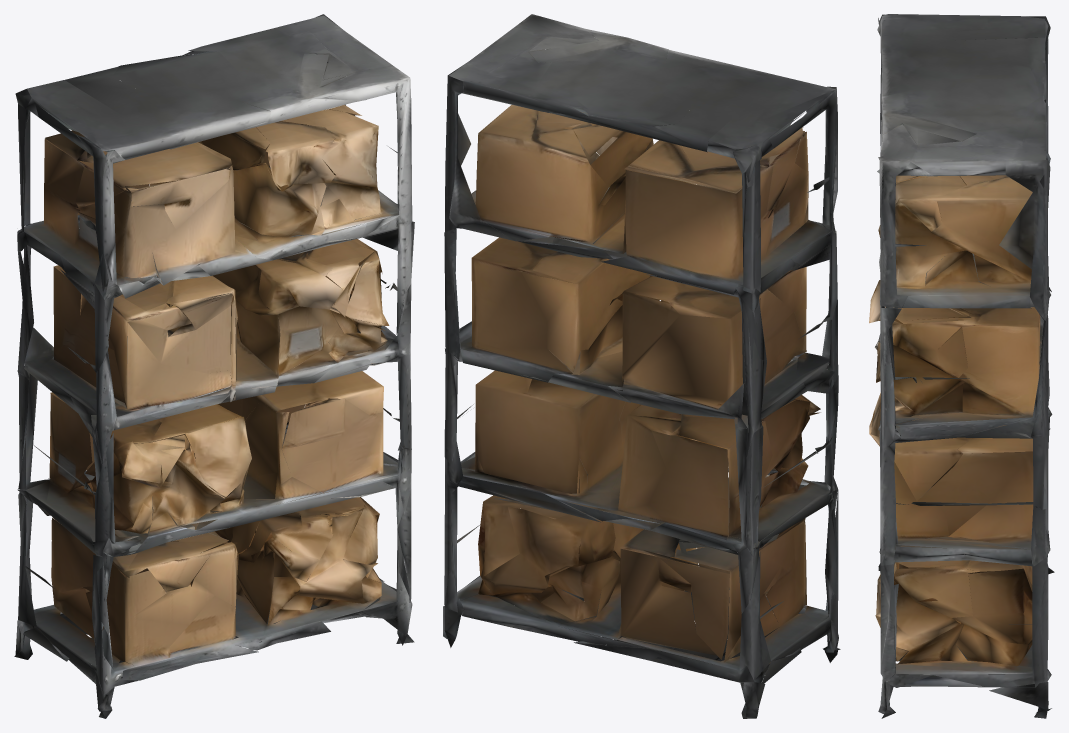
Rendered from archive_shelf_LOD1.fbx.
3 views of the same model, side by side, from view 1: azimuth 30°, elevation 25°; view 2: azimuth 150°, elevation 25°; view 3: azimuth 270°, elevation 25° (orthographic). The views are drawn at different scales.
Visible parts, largest first — view 1: archive_shelf.001; view 2: archive_shelf.001; view 3: archive_shelf.001.
Part boxes in pixels (box(x1,y1,x2,y2)): archive_shelf.001: box(14, 14, 414, 718); archive_shelf.001: box(443, 14, 840, 718); archive_shelf.001: box(869, 14, 1054, 718).
Size of the model in its own units: 1.16 by 2 by 0.6014.
1 material, 1 textured.
